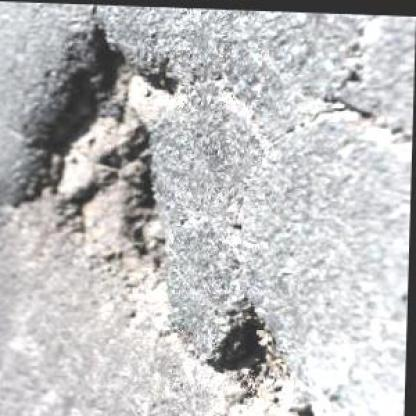pothole: (0, 17, 190, 301)
